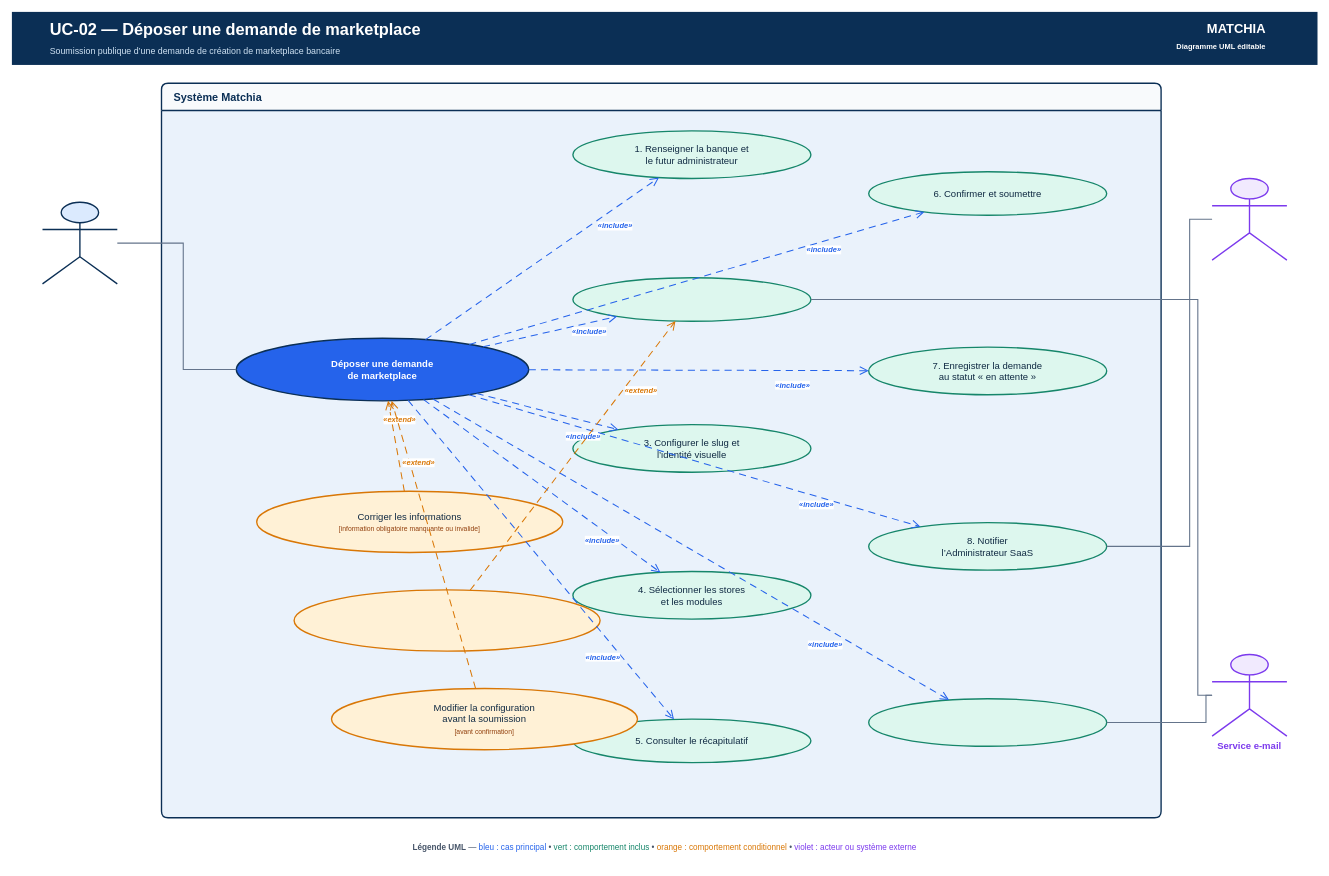
Some shapes in this 1329 by 876 pixel diagram are drawn without their labels. The shapes that lost their labels are listed below. From the top down, each one's centre as x and y in pixels, then its label:
At (1249,218): "Administrateur SaaS".
At (79,242): "Représentant de la banque".
At (691,299): "2. Vérifier l’adresse e-mail".
At (446,620): "Renvoyer le code de vérification [code incorrect ou expiré]".
At (987,722): "9. Envoyer l’e-mail de confirmation".
